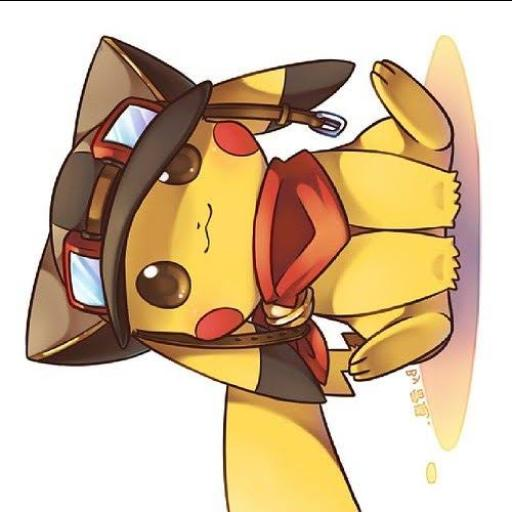Pikachu: (24, 35, 460, 512)
